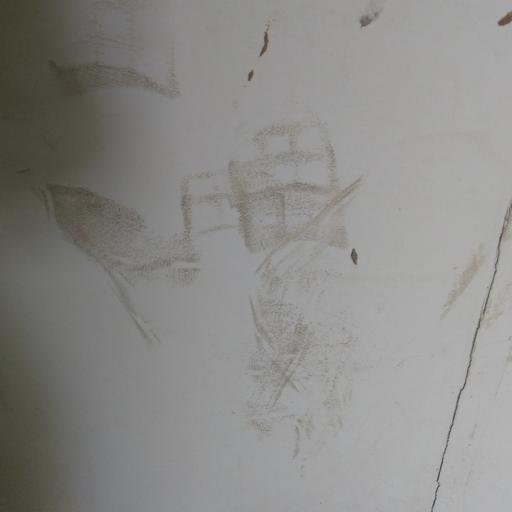stain: (49, 5, 404, 449), (424, 174, 512, 349), (493, 5, 512, 43)
